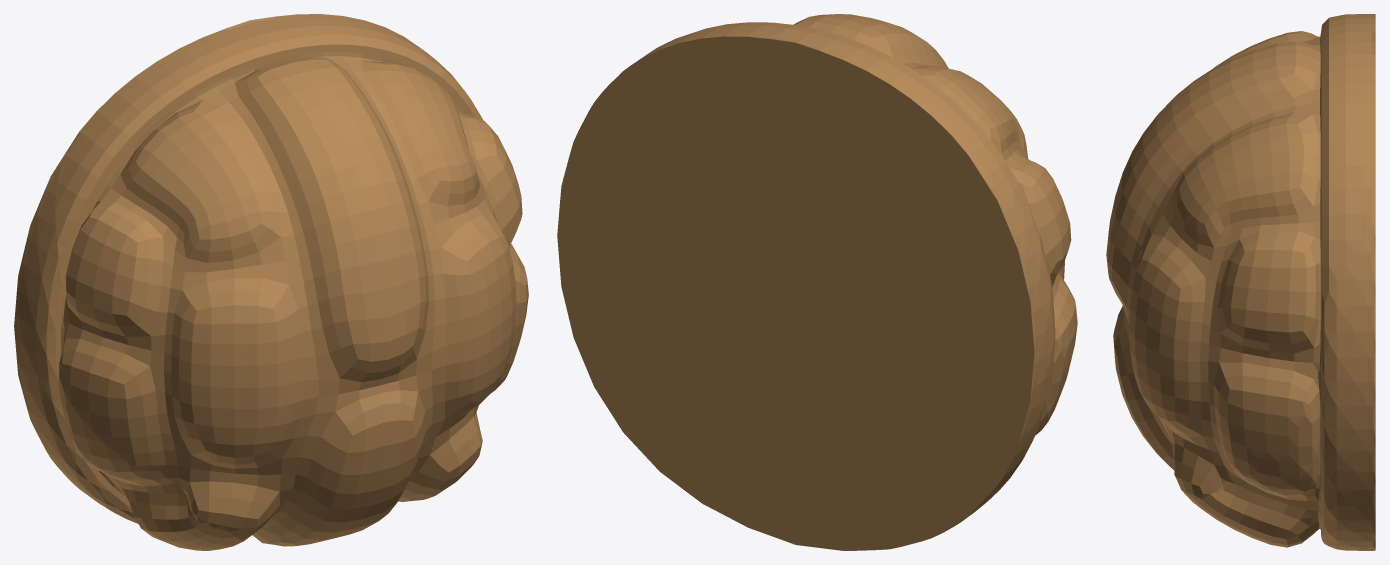
File: hodu.glb
3 views of the same model, side by side, from view 1: azimuth 30°, elevation 25°; view 2: azimuth 150°, elevation 25°; view 3: azimuth 270°, elevation 25° (orthographic). The views are drawn at different scales.
Visible parts, largest first — view 1: Cube.752; view 2: Cube.752; view 3: Cube.752.
Part boxes in pixels (x1,y1,x2,y2): Cube.752: (14, 14, 528, 550); Cube.752: (557, 14, 1077, 550); Cube.752: (1106, 14, 1375, 550).
Bounding box in the file's own units: 13.68 × 13.76 × 6.95.
